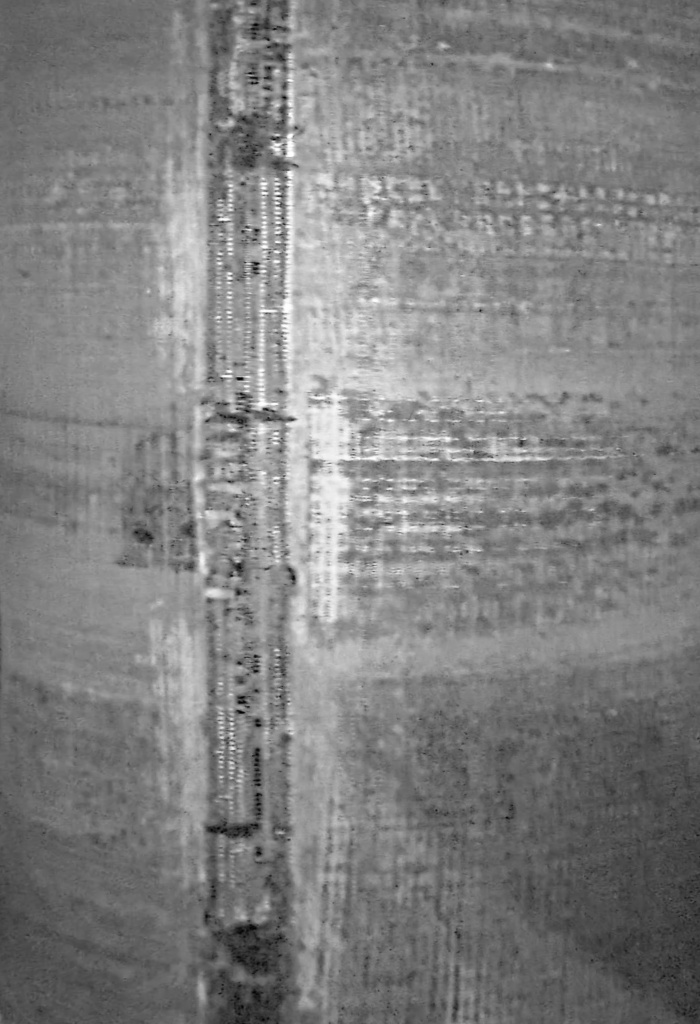splice: (202, 2, 297, 1024)
